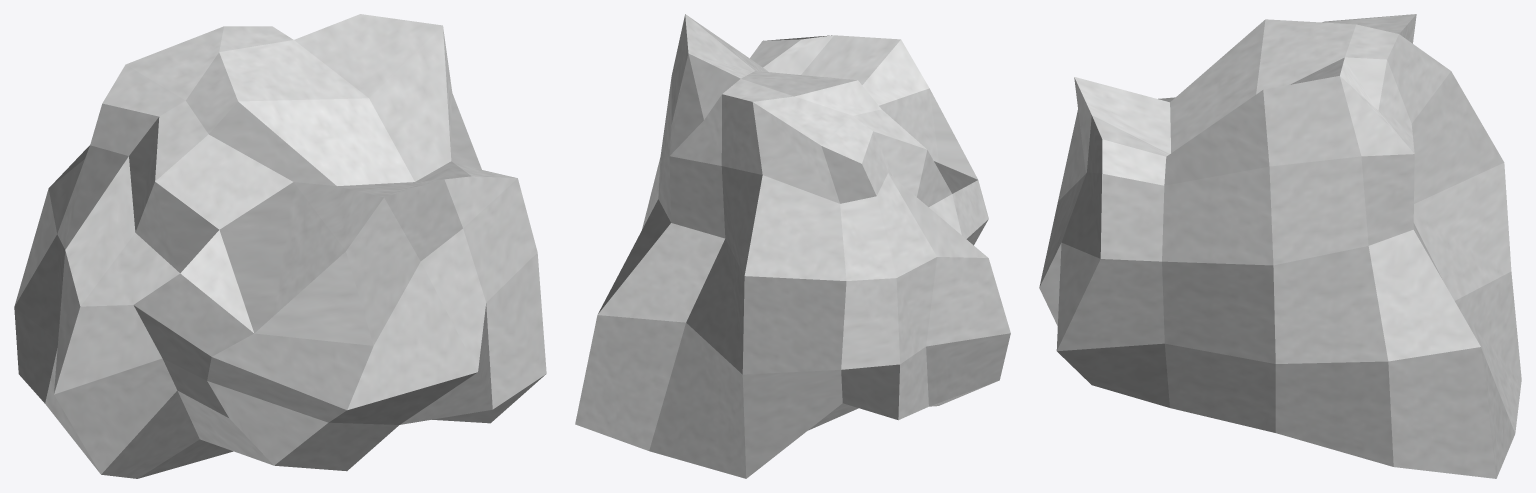
The model's file is Mineral_Celestial.fbx.
3 views of the same model, side by side, from view 1: azimuth 30°, elevation 25°; view 2: azimuth 150°, elevation 25°; view 3: azimuth 270°, elevation 25° (orthographic). The views are drawn at different scales.
Parts seen in each view (by area): view 1: Minerais; view 2: Minerais; view 3: Minerais.
Part boxes in pixels (x1,y1,x2,y2): Minerais: (14, 14, 546, 478); Minerais: (575, 14, 1010, 478); Minerais: (1039, 14, 1521, 478).
Bounding box in the file's own units: 20.14 × 18.73 × 21.15.
Materials: 1 (1 with a texture image).
